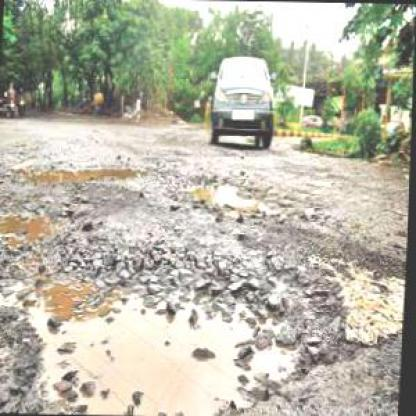pothole: (183, 169, 282, 221), (22, 161, 146, 191)
